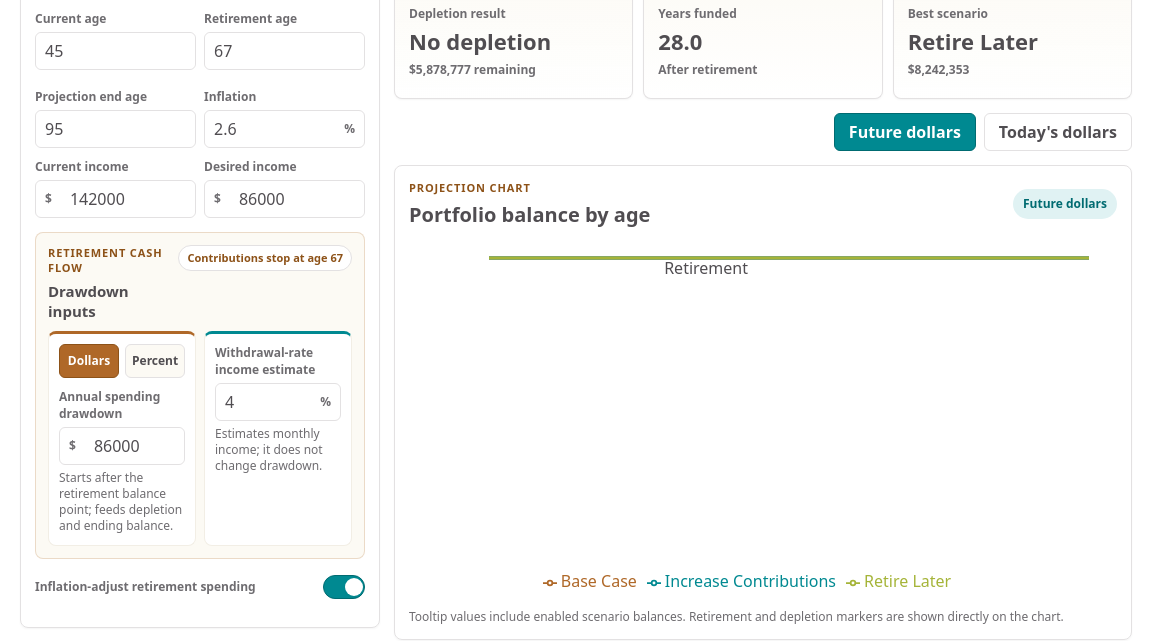
Test case: Retirement dashboard app › switches annual spending between dollar and percent entry
The width and height of the screenshot is (1152, 641).
(page scrolled)
Click the button "Percent": click(155, 361) [125,344,185,378]
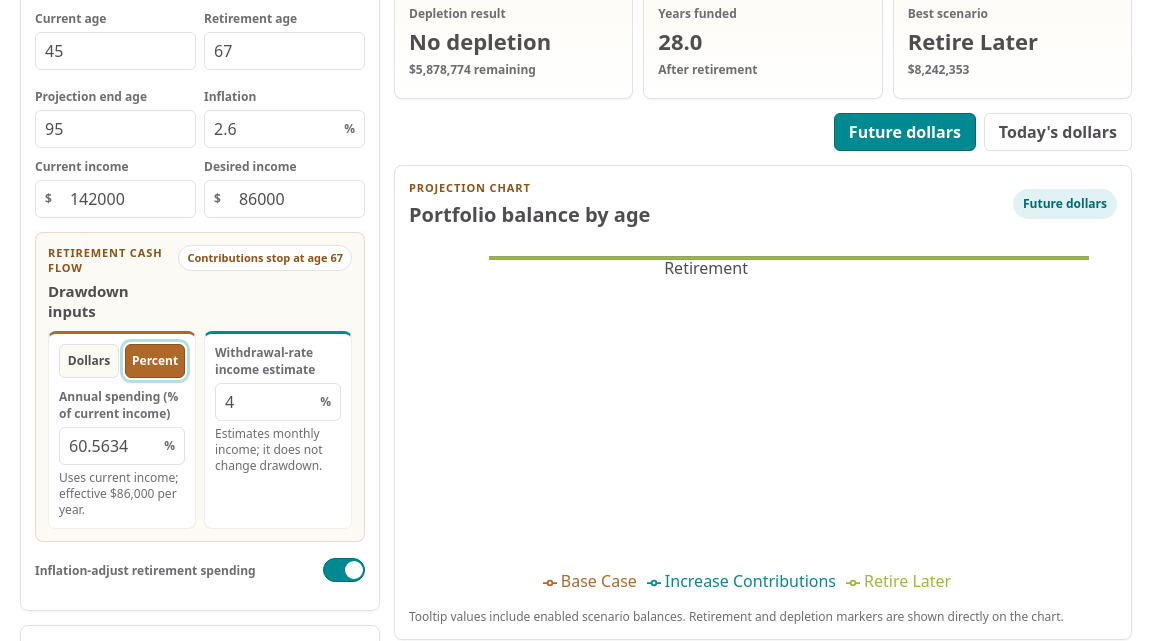
Check: the number field labelled "Annual spending (% of current income)" holds "60.5634", box [60,428,155,464]
Check: the text "Uses current income; effective $86,000 per year." is shown, box [59,470,185,518]
Click the button "Dollars": click(89, 361) [59,344,119,378]
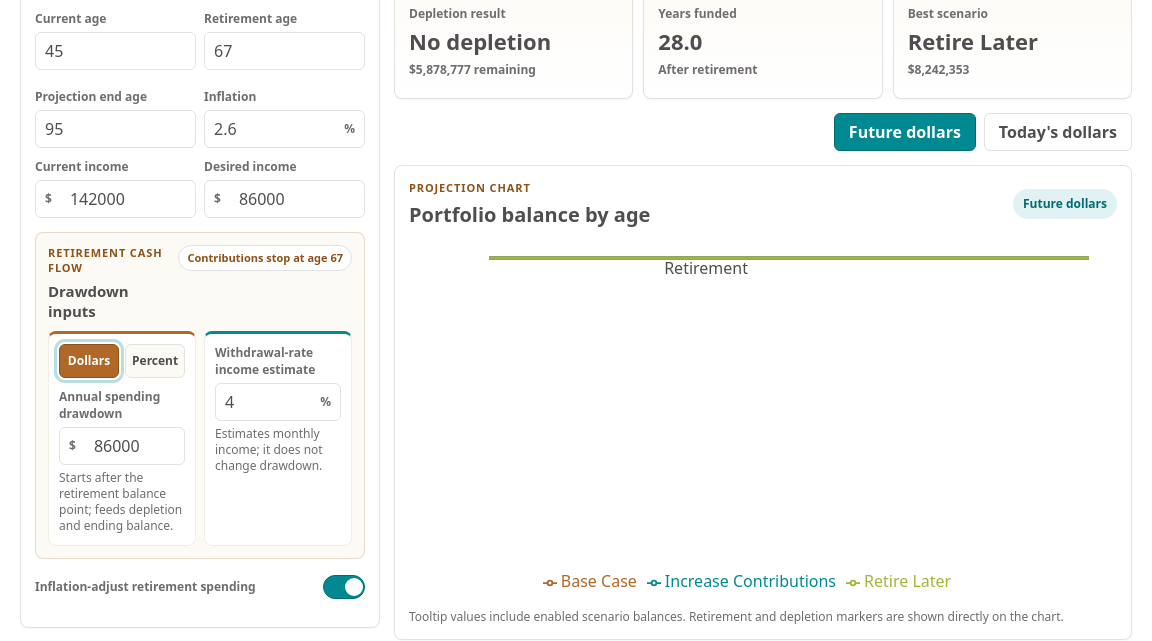
Check: the number field labelled "Annual spending drawdown" holds "86000", box [85,428,184,464]
